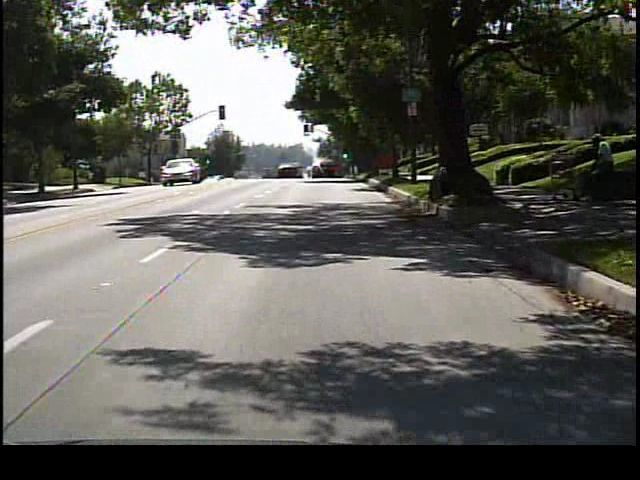person: (583, 131, 619, 212)
